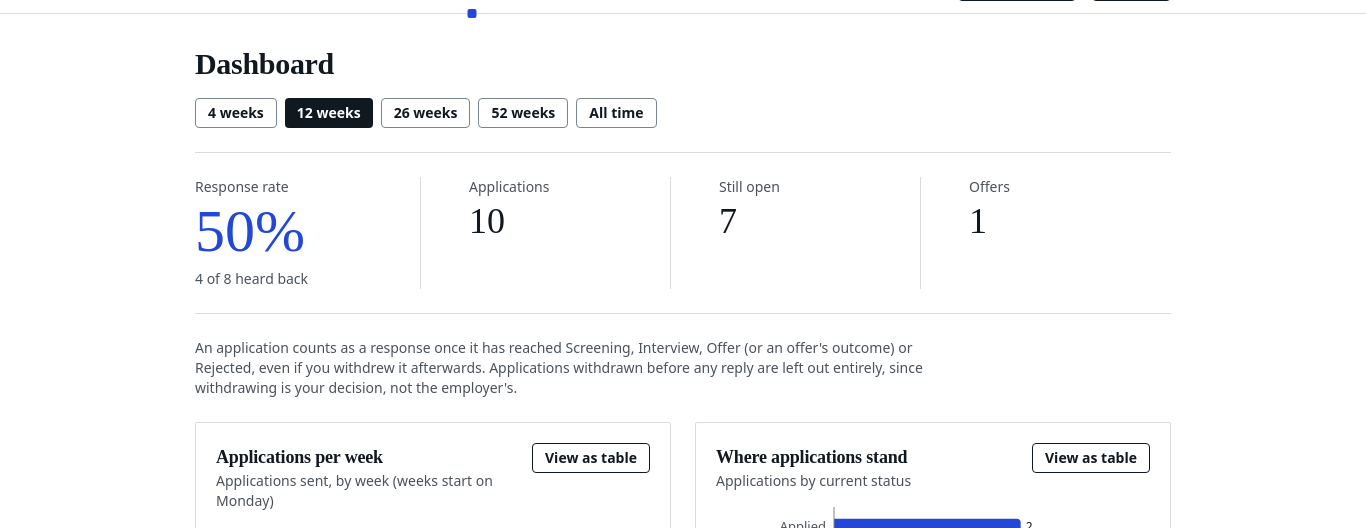
Test: charts and their table twins › toggles back to the chart
Click the button "View as table" next to "Applications per week" at (591, 458), box [532, 443, 650, 473]
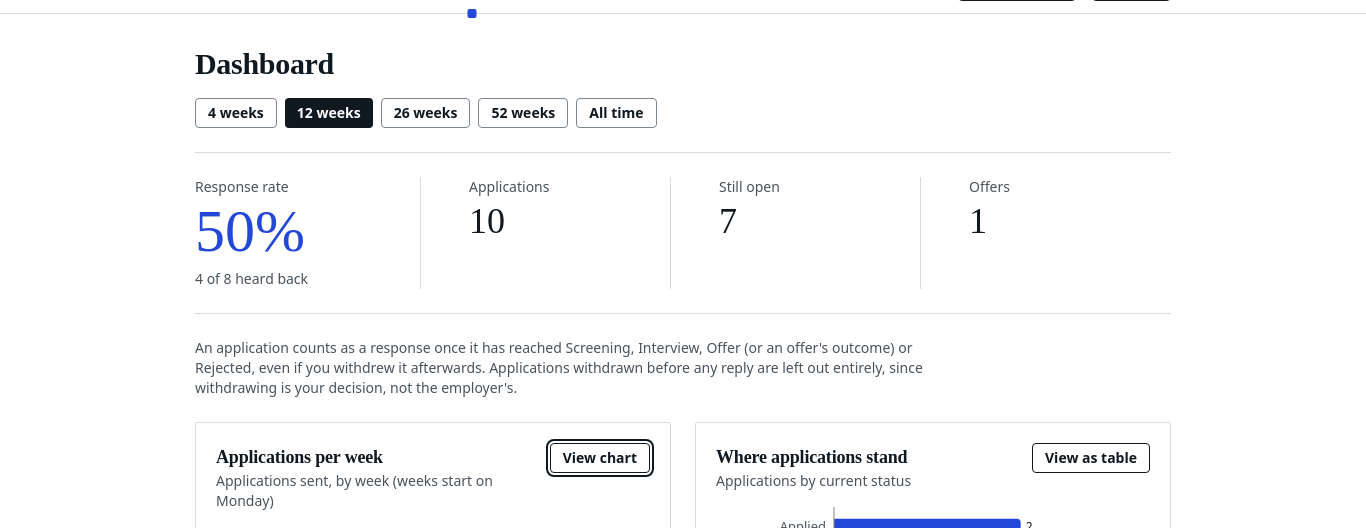
Expected: the button "View chart" is pressed
Click the button "View chart" at (600, 458), box [550, 443, 650, 473]
(page scrolled)
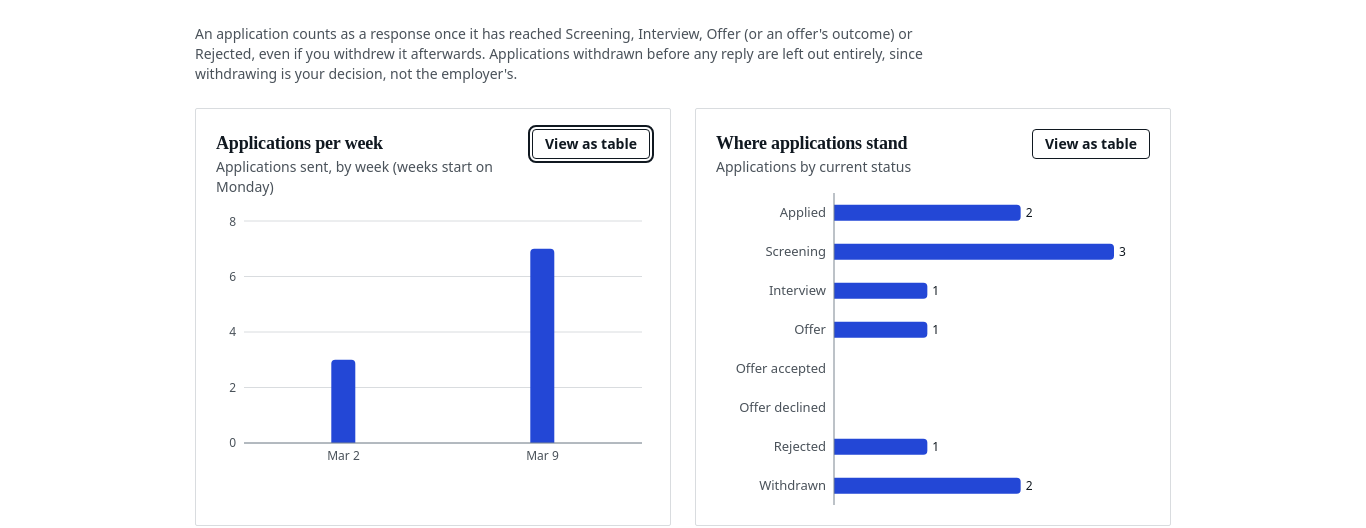
Expected: the picture named "bar chart" is shown, [216, 213, 650, 473]
